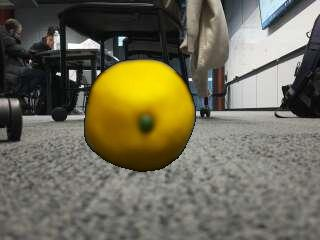lemon: (84, 60, 195, 171)
